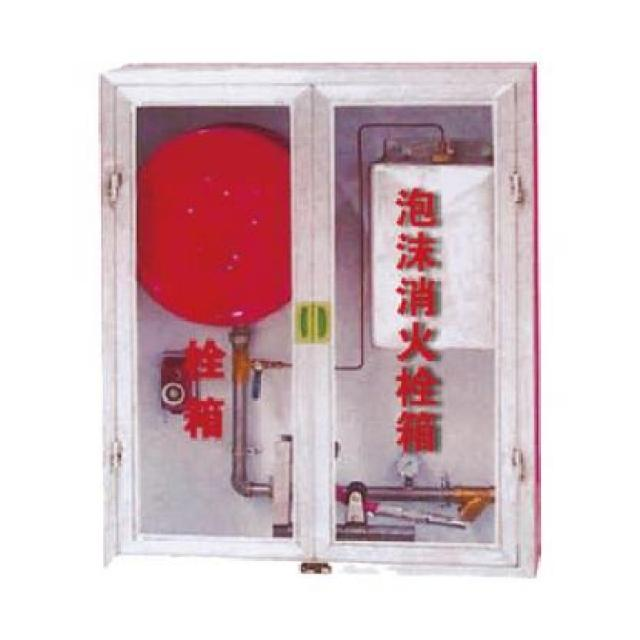firehydrant: (93, 57, 544, 587)
